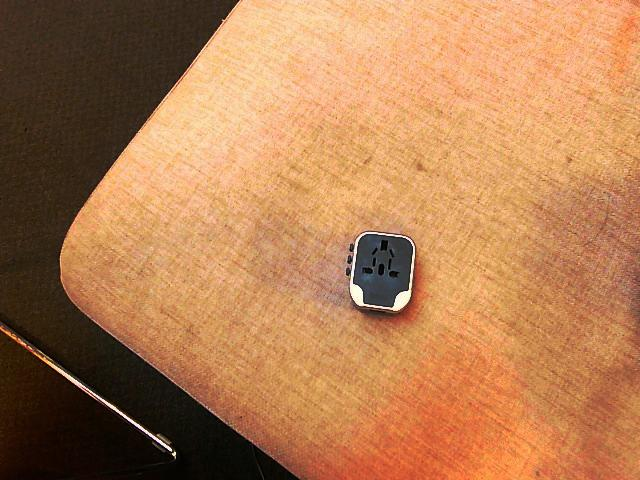adapter: (345, 230, 415, 314)
